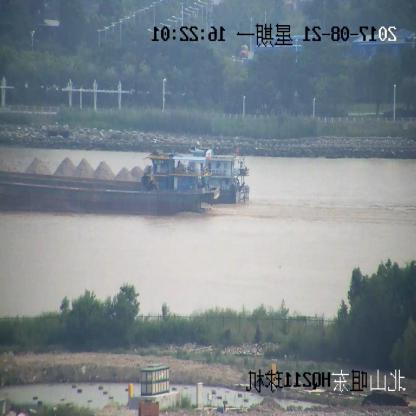Bulk Carrier: (0, 160, 220, 216)
